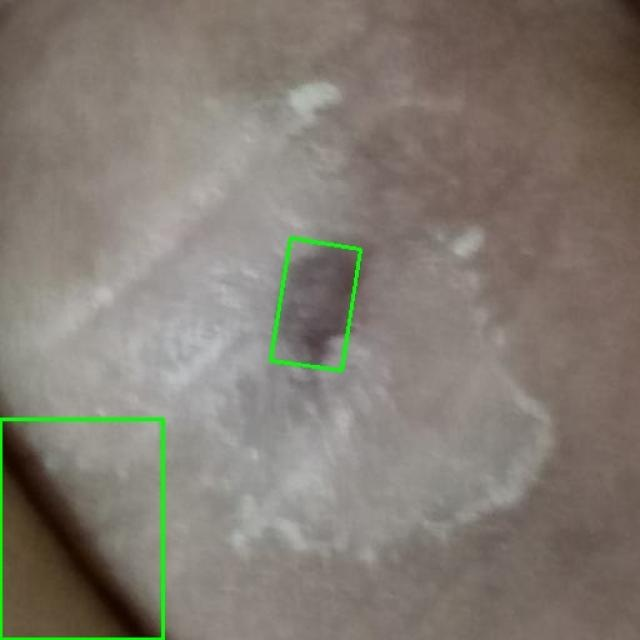Tinea Corporis: (0, 419, 162, 639), (271, 239, 361, 371)
